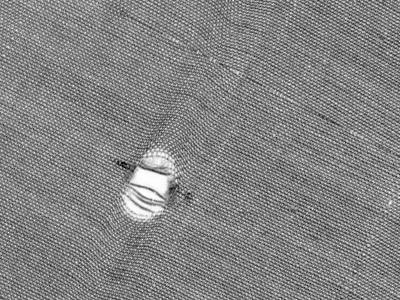hole: (119, 143, 181, 225)
